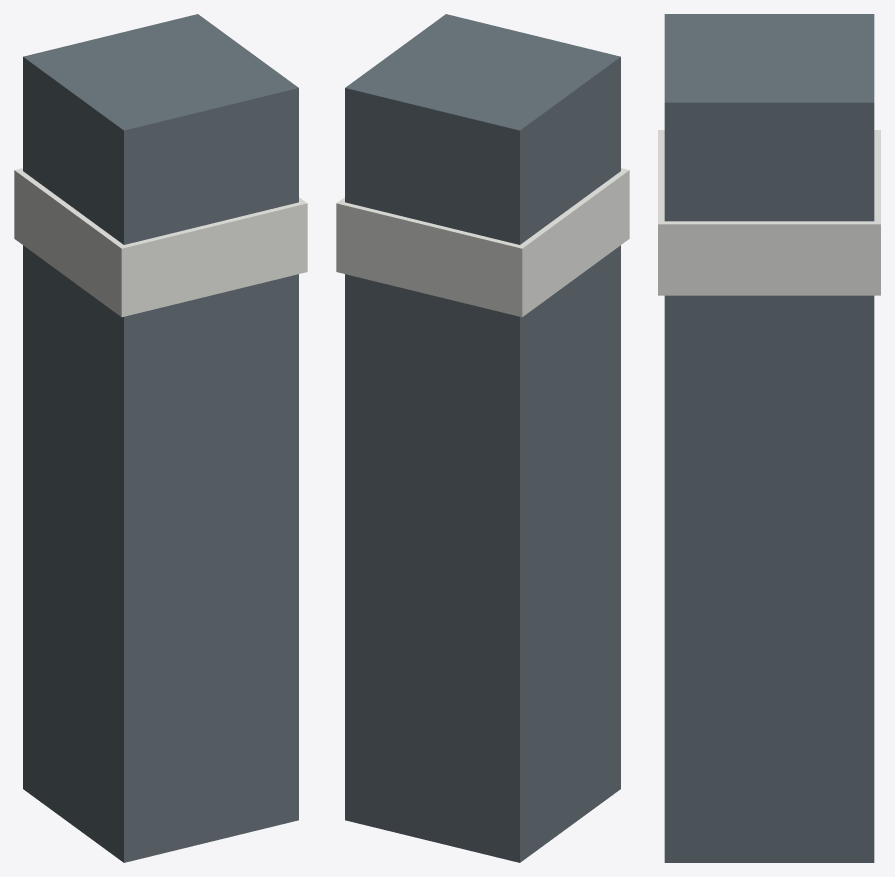
Rendered from city-bollard.glb.
3 renders of one model, left to right at view 1: azimuth 30°, elevation 25°; view 2: azimuth 150°, elevation 25°; view 3: azimuth 270°, elevation 25°, orthographic. The views are drawn at different scales.
Size of the model in its own units: 0.17 by 0.64 by 0.17.
